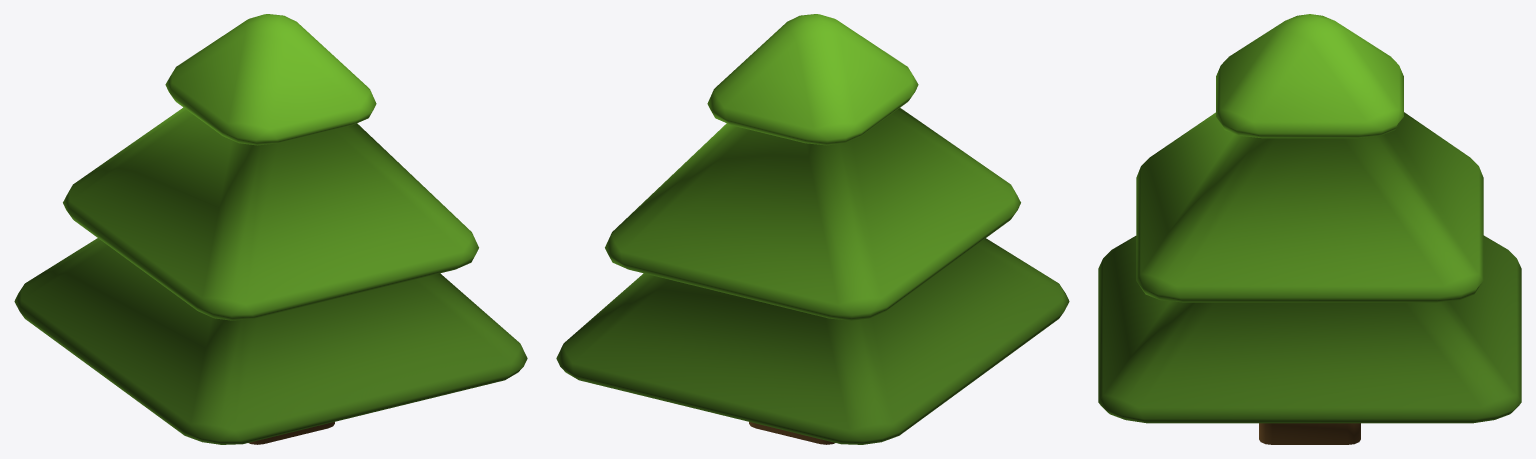
File: pinheiro.fbx
The picture shows the model from 3 angles, left to right: view 1: azimuth 30°, elevation 25°; view 2: azimuth 150°, elevation 25°; view 3: azimuth 270°, elevation 25°; orthographic projection.
Visible parts, largest first — view 1: pinheiro; view 2: pinheiro; view 3: pinheiro.
Boxes of the visible parts, x1=… form: pinheiro: x1=14, y1=14, x2=527, y2=444; pinheiro: x1=556, y1=14, x2=1069, y2=444; pinheiro: x1=1098, y1=14, x2=1521, y2=444.
Bounding box in the file's own units: 158 × 178 × 169.
